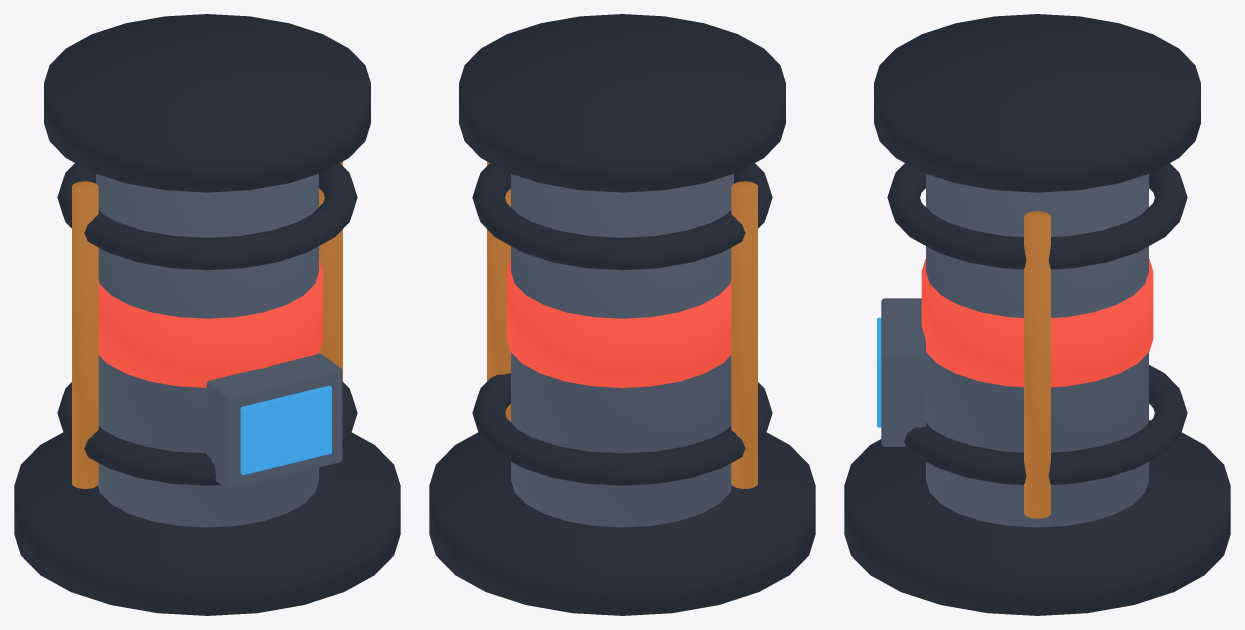
Rendered from reactor_nucleo.glb.
3 renders of one model, left to right at view 1: azimuth 30°, elevation 25°; view 2: azimuth 150°, elevation 25°; view 3: azimuth 270°, elevation 25°, orthographic.
Visible parts, largest first — view 1: Cylinder.043, Cylinder.040, Cylinder.041, Cylinder.042, Torus.006, Cube.082, Cylinder.045, Cube.083, Torus.005, Cylinder.044; view 2: Cylinder.043, Cylinder.041, Cylinder.040, Cylinder.042, Torus.006, Torus.005, Cylinder.045, Cylinder.044; view 3: Cylinder.043, Cylinder.040, Cylinder.041, Cylinder.042, Torus.006, Torus.005, Cylinder.044, Cube.082, Cube.083.
Part boxes in pixels (bbox=[...]): Cylinder.043: bbox=[44, 14, 370, 192]; Cylinder.040: bbox=[14, 432, 400, 615]; Cylinder.041: bbox=[96, 174, 318, 527]; Cylinder.042: bbox=[98, 259, 323, 387]; Torus.006: bbox=[57, 163, 357, 270]; Cube.082: bbox=[206, 354, 342, 489]; Cylinder.045: bbox=[72, 181, 98, 488]; Cube.083: bbox=[240, 385, 331, 474]; Torus.005: bbox=[57, 381, 357, 485]; Cylinder.044: bbox=[319, 161, 342, 381]; Cylinder.043: bbox=[459, 14, 785, 192]; Cylinder.041: bbox=[511, 174, 733, 527]; Cylinder.040: bbox=[429, 432, 815, 615]; Cylinder.042: bbox=[506, 259, 731, 387]; Torus.006: bbox=[472, 163, 772, 270]; Torus.005: bbox=[472, 373, 772, 485]; Cylinder.045: bbox=[731, 181, 757, 488]; Cylinder.044: bbox=[487, 161, 510, 421]; Cylinder.043: bbox=[874, 14, 1200, 192]; Cylinder.040: bbox=[844, 420, 1230, 615]; Cylinder.041: bbox=[926, 174, 1148, 527]; Cylinder.042: bbox=[921, 259, 1153, 387]; Torus.006: bbox=[887, 163, 1187, 269]; Torus.005: bbox=[904, 365, 1187, 484]; Cylinder.044: bbox=[1024, 211, 1050, 518]; Cube.082: bbox=[881, 298, 925, 446]; Cube.083: bbox=[877, 317, 881, 427].
Size of the model in its own units: 2.6 by 3.35 by 2.6.
